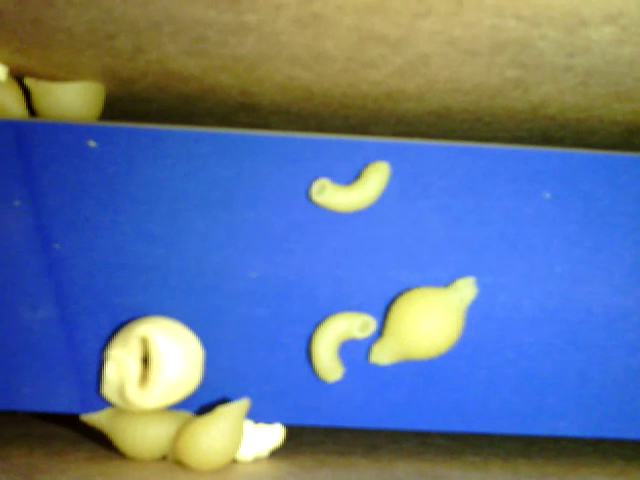elbow: (309, 308, 377, 386), (307, 156, 392, 217)
shell: (368, 274, 481, 368), (80, 400, 199, 462), (170, 393, 253, 473), (24, 75, 106, 128)
tortellini: (90, 310, 205, 416)
